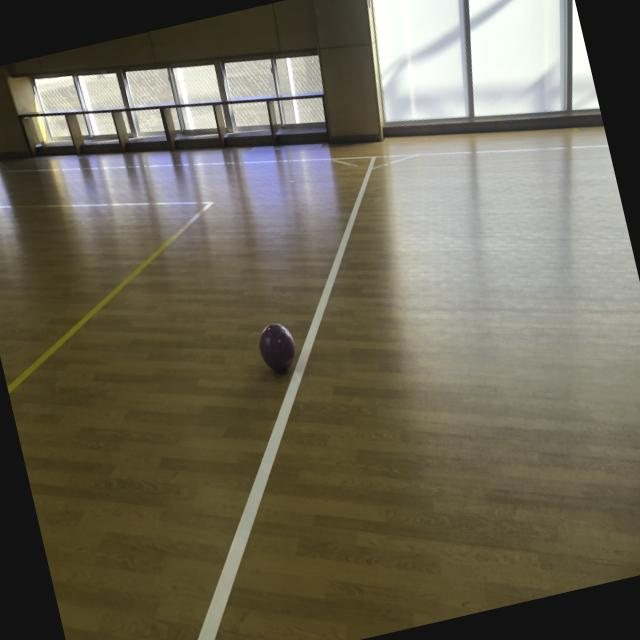purple_ball: (252, 318, 298, 374)
